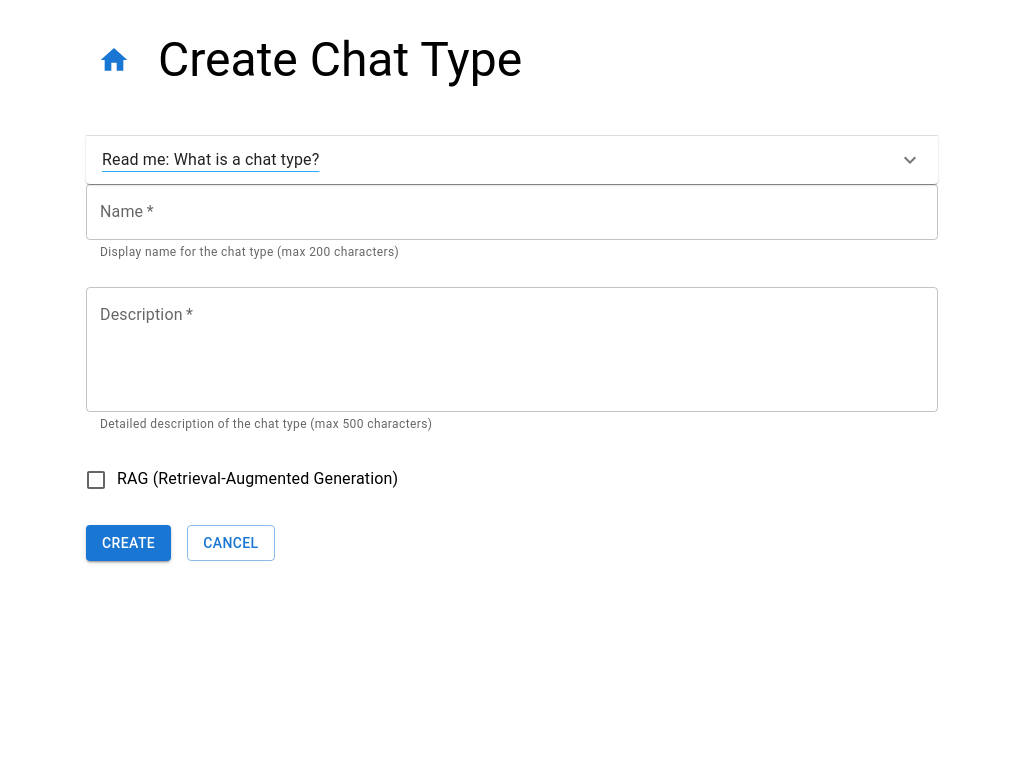
it: CreateChatTypeForm › Accordion Info Content › should expand the accordion and display help content
Click the button "Read me: What is a chat type?".
click(211, 160)  # box [86,136,938,184]
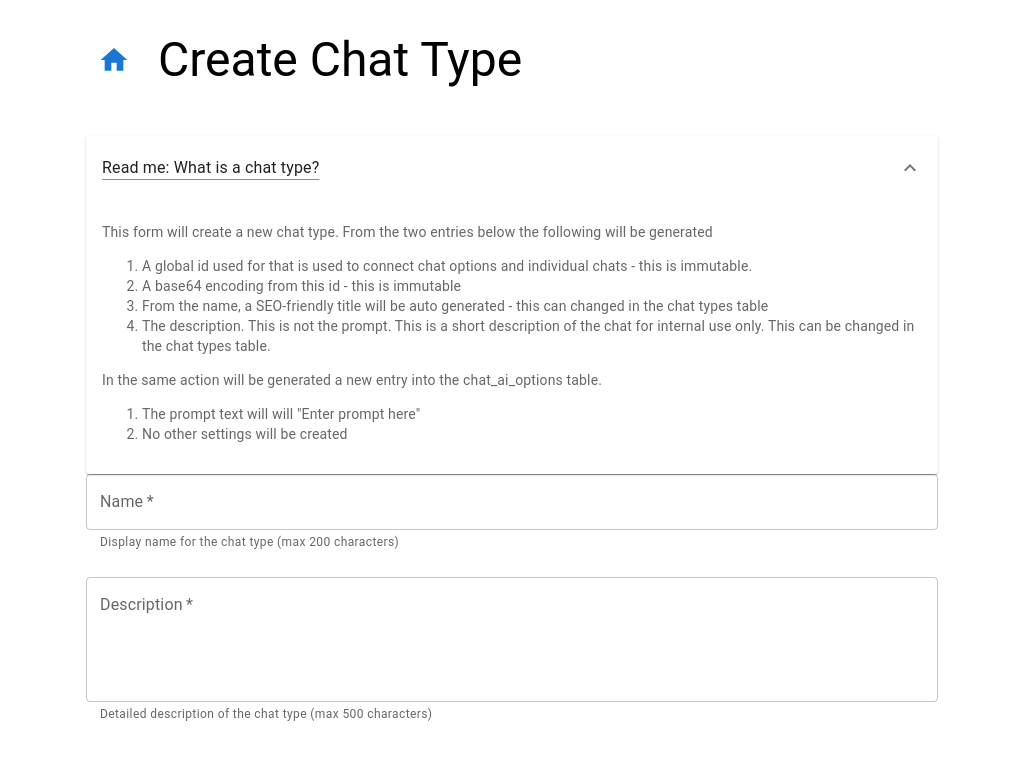
Result: the text "This form will create a new chat type" is shown at [102,224,713,240]
